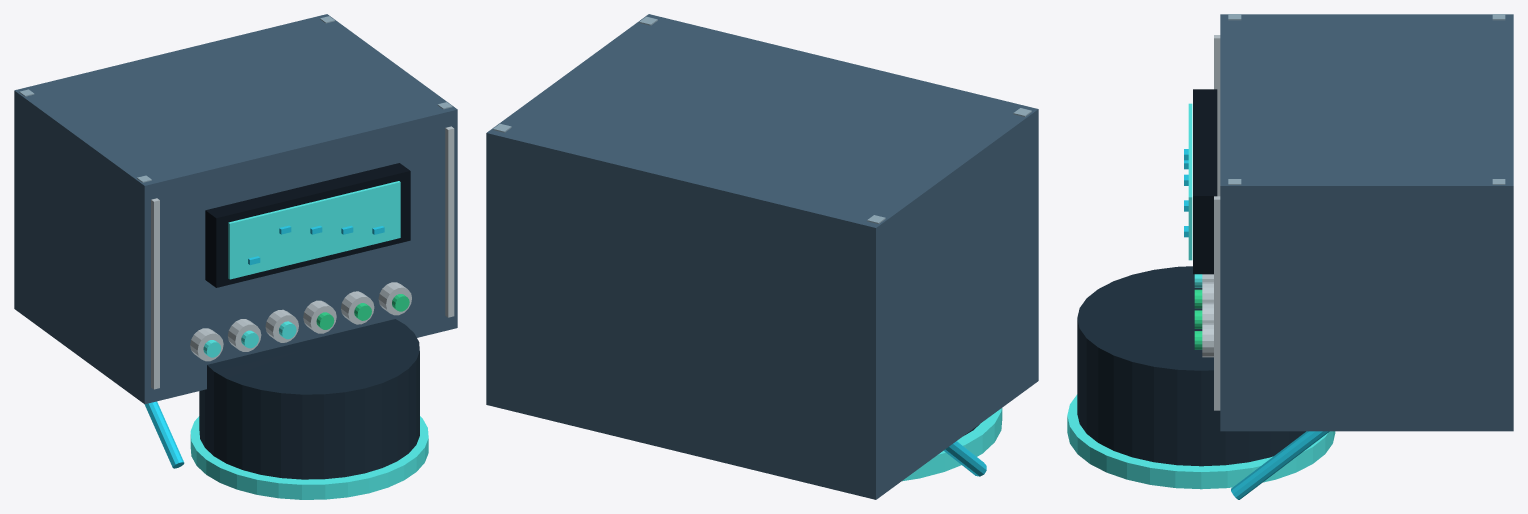
Rendered from 30_L79_LaserDisplacementInterferometer.fbx.
3 views of the same model, side by side, from view 1: azimuth 30°, elevation 25°; view 2: azimuth 150°, elevation 25°; view 3: azimuth 270°, elevation 25° (orthographic). The views are drawn at different scales.
Visible parts, largest first — view 1: LaserDisplacementInterferometer; view 2: LaserDisplacementInterferometer; view 3: LaserDisplacementInterferometer.
Boxes of the visible parts, x1,y1,x2,y2 form: LaserDisplacementInterferometer: (14,14,457,499); LaserDisplacementInterferometer: (486,14,1038,499); LaserDisplacementInterferometer: (1067,14,1513,499).
Size of the model in its own units: 108 by 104 by 119.
